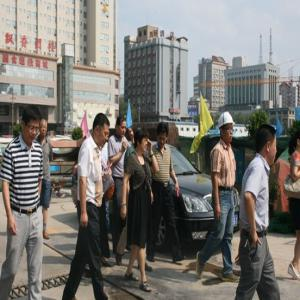none: (256, 125, 278, 167), (21, 104, 41, 144), (92, 113, 110, 149), (136, 128, 149, 154), (156, 122, 169, 148), (116, 116, 128, 139), (39, 118, 49, 138)
white: (218, 112, 235, 144)
